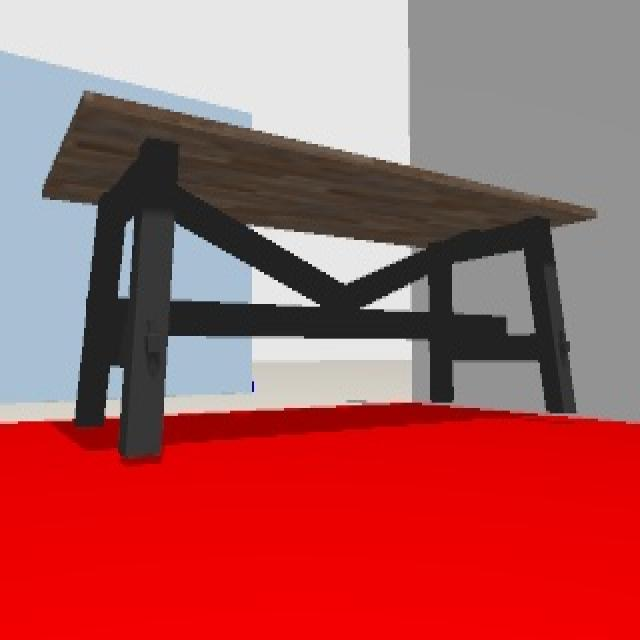dining: (41, 89, 624, 461)
